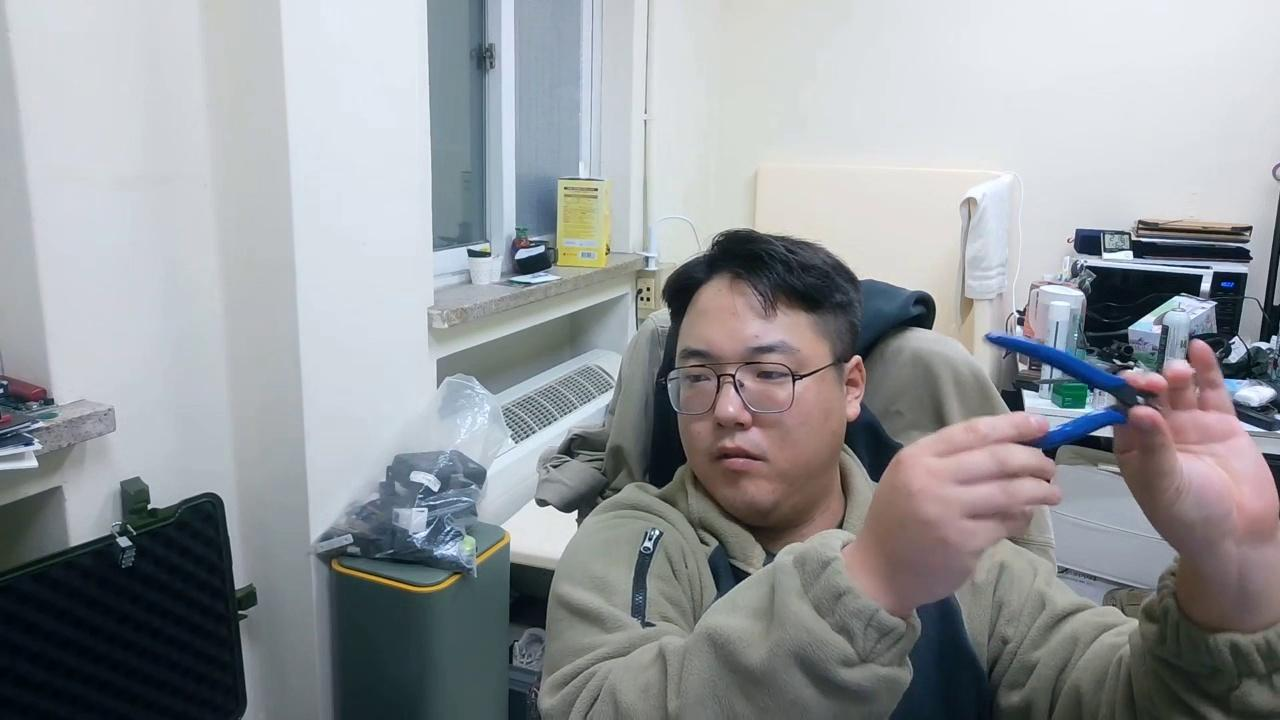blue_pliers: (985, 329, 1167, 453)
